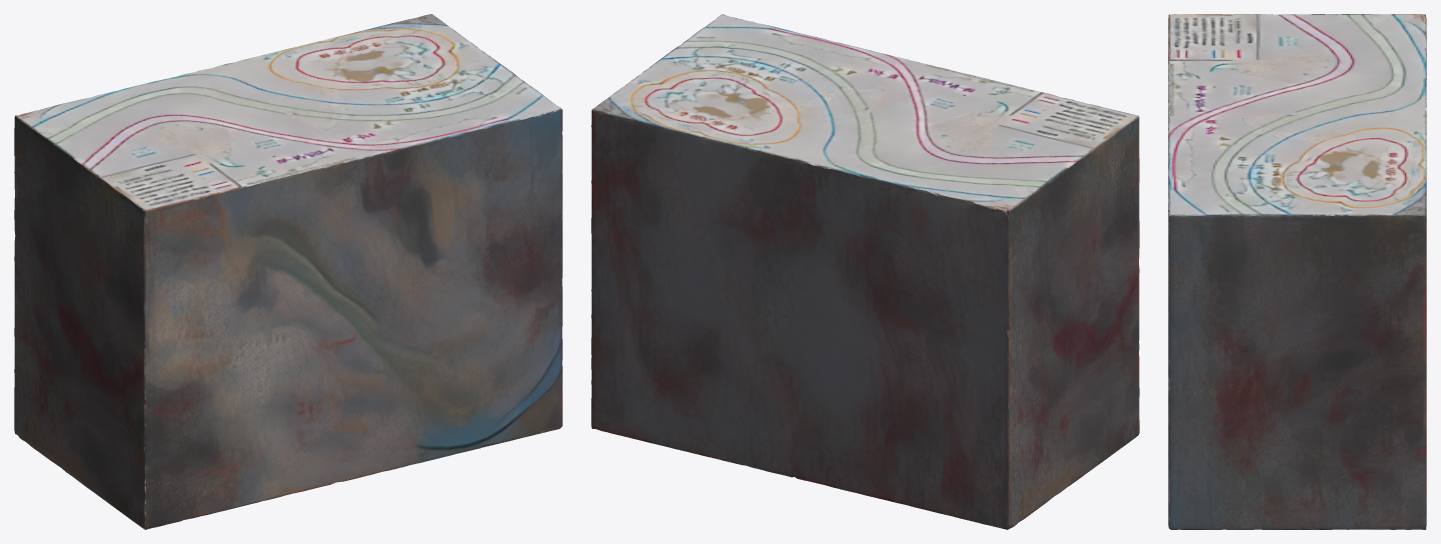
Rendered from Dongfeng-15_Missile_Launcher.glb.
3 views of the same model, side by side, from view 1: azimuth 30°, elevation 25°; view 2: azimuth 150°, elevation 25°; view 3: azimuth 270°, elevation 25° (orthographic).
Parts seen in each view (by area): view 1: model; view 2: model; view 3: model.
Part boxes in pixels (left/top/right/bottom): model: left=14, top=14, right=562, bottom=529; model: left=591, top=14, right=1139, bottom=529; model: left=1168, top=14, right=1426, bottom=529.
Bounding box in the file's own units: 1.9 × 1.39 × 1.03.
1 material, 1 textured.
